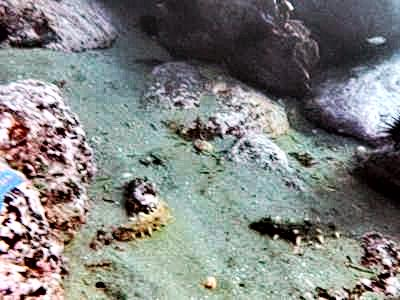urchin: (383, 105, 397, 153)
